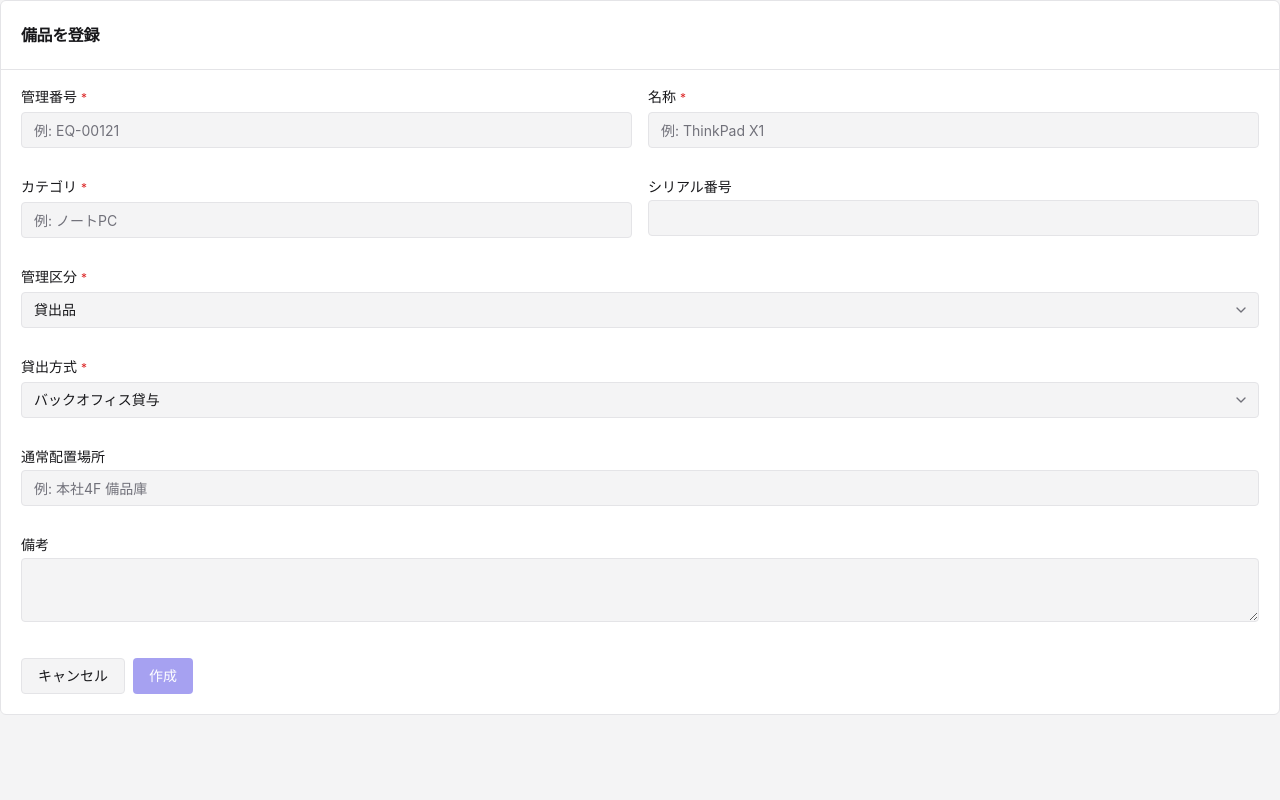
it: AssetRegisterPage › falls back to the default rule when the category has no matching rule
Type "未登録カテゴリ" into the dropdown labelled "カテゴリ" at [326, 220], box [21,202,632,238]
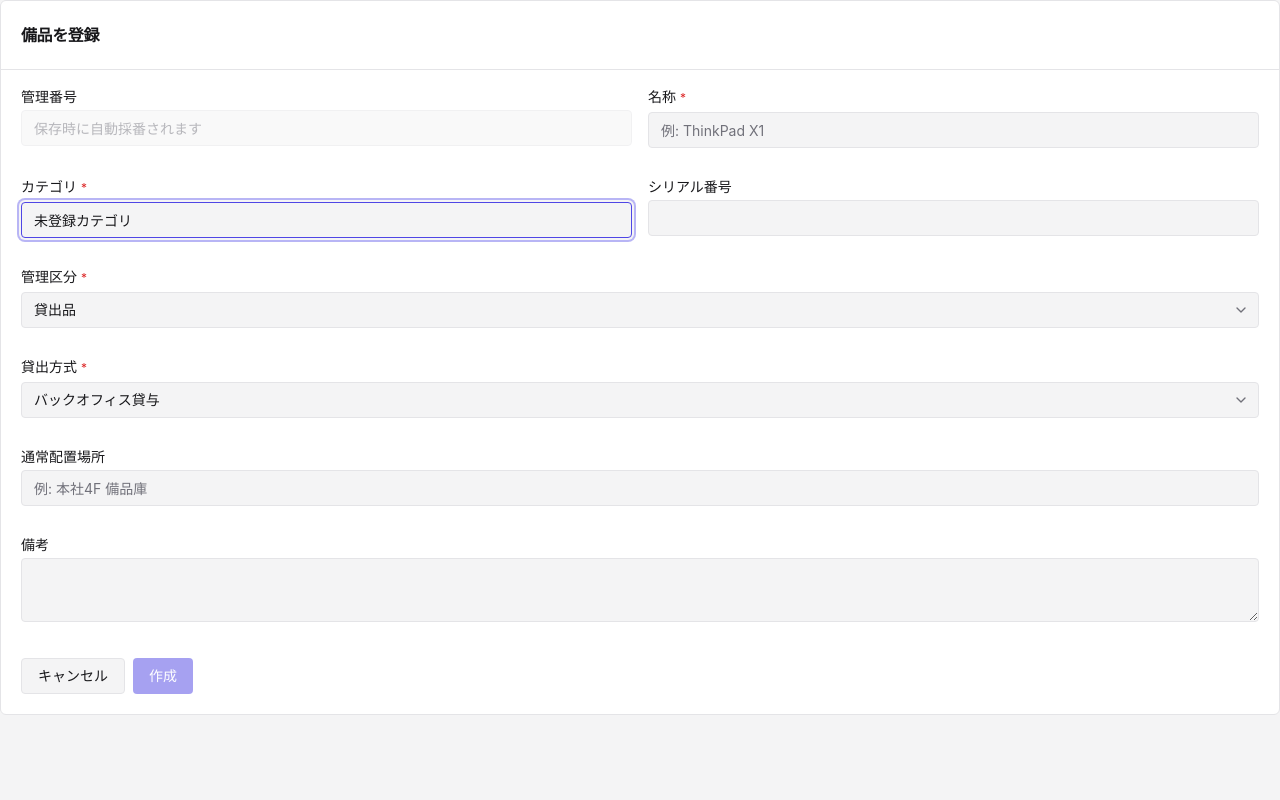
Expected: the field labelled "管理番号" is disabled, [21,110,632,146]
